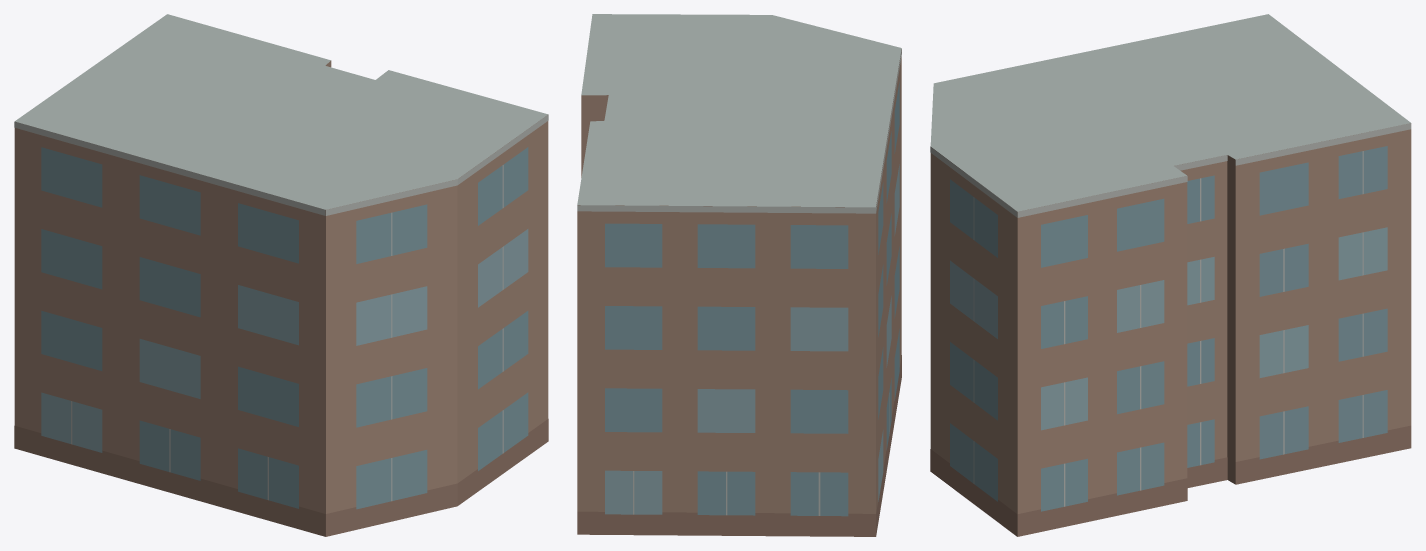
The model's file is survey-upis-32671137.glb.
The picture shows the model from 3 angles, left to right: view 1: azimuth 30°, elevation 25°; view 2: azimuth 150°, elevation 25°; view 3: azimuth 270°, elevation 25°; orthographic projection.
Visible parts, largest first — view 1: survey-upis-32671137.tmp; view 2: survey-upis-32671137.tmp; view 3: survey-upis-32671137.tmp.
Boxes of the visible parts, bbox=[...] form: survey-upis-32671137.tmp: bbox=[14, 14, 548, 536]; survey-upis-32671137.tmp: bbox=[577, 14, 901, 536]; survey-upis-32671137.tmp: bbox=[930, 14, 1411, 536].
Size of the model in its own units: 16.71 by 12.8 by 17.16.
